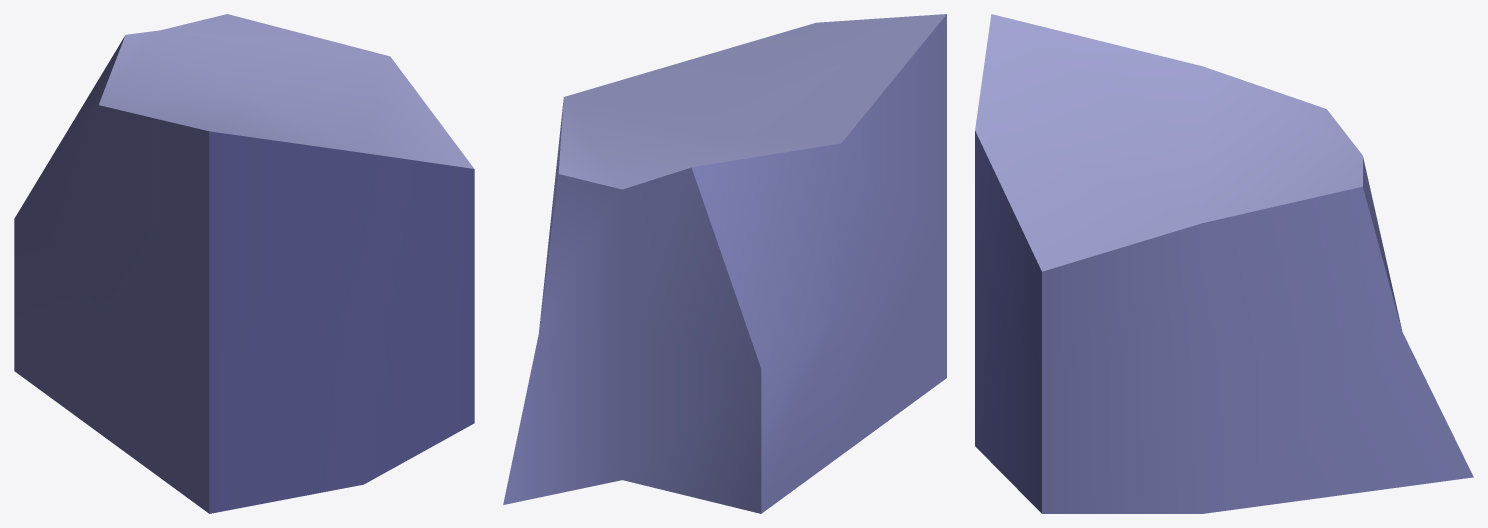
File: Rock4.fbx
3 views of the same model, side by side, from view 1: azimuth 30°, elevation 25°; view 2: azimuth 150°, elevation 25°; view 3: azimuth 270°, elevation 25° (orthographic). The views are drawn at different scales.
Parts seen in each view (by area): view 1: Rock4; view 2: Rock4; view 3: Rock4.
Part boxes in pixels (bbox=[...]): Rock4: bbox=[14, 14, 474, 513]; Rock4: bbox=[503, 14, 946, 513]; Rock4: bbox=[975, 14, 1473, 513].
Bounding box in the file's own units: 1 × 1.25 × 1.55.
